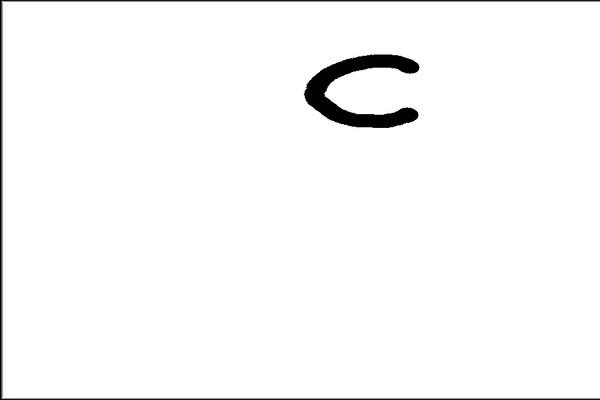C: (299, 48, 423, 131)
